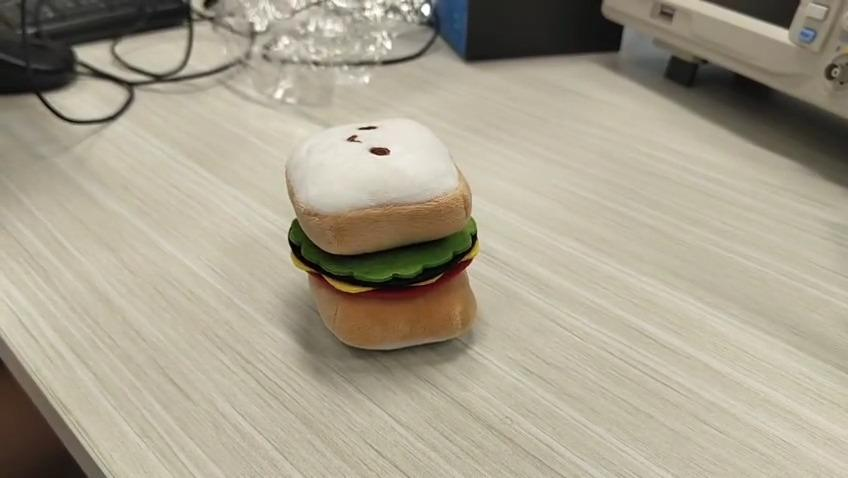objects: (284, 117, 482, 349)
